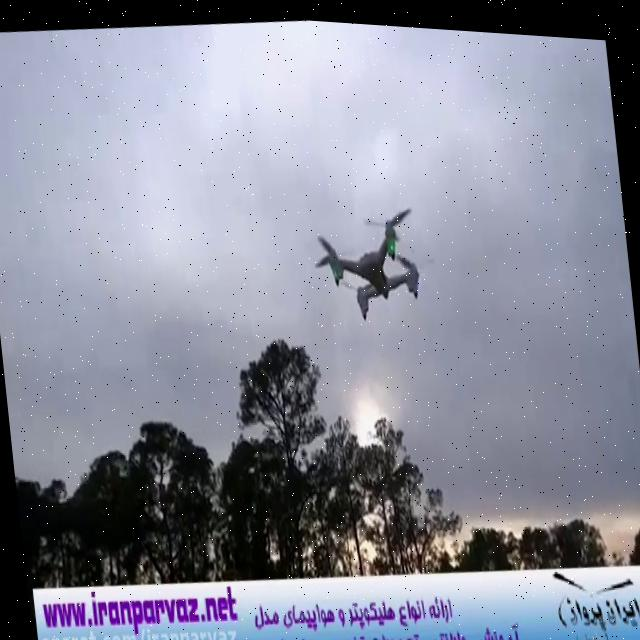drone: (304, 185, 442, 327)
